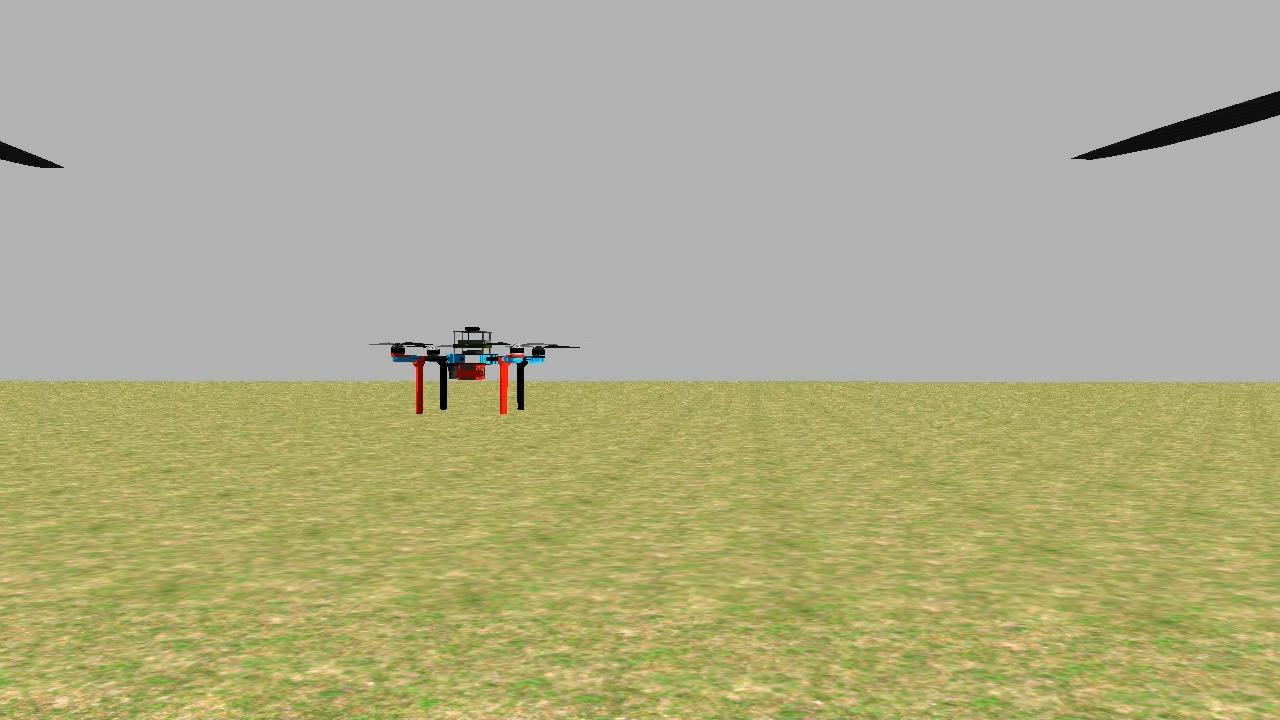UAV: (380, 308, 548, 423)
